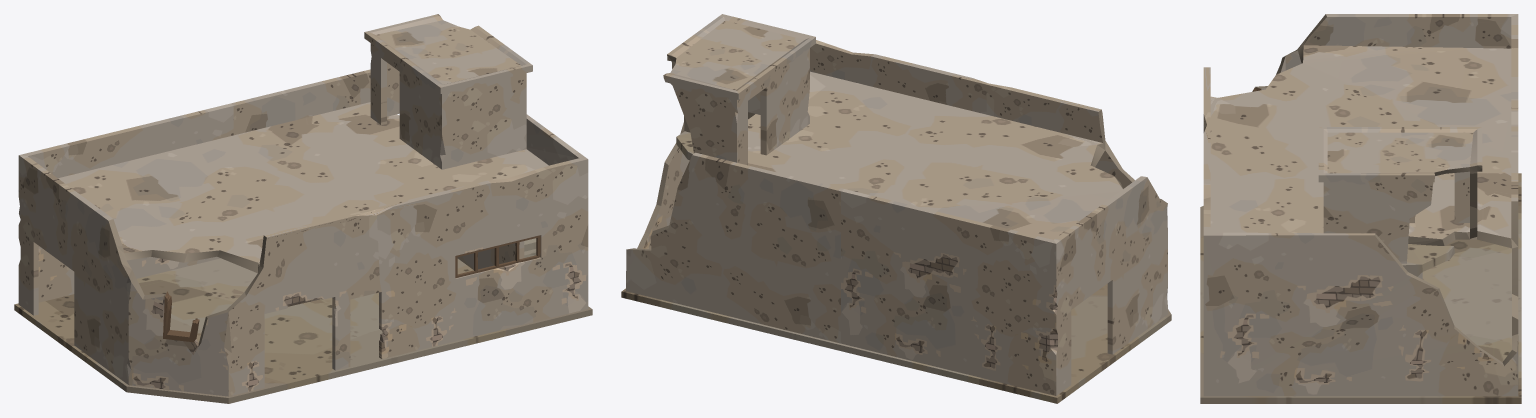
File: SM_Bld_Shop_07_Destroyed.fbx
The picture shows the model from 3 angles, left to right: view 1: azimuth 30°, elevation 25°; view 2: azimuth 150°, elevation 25°; view 3: azimuth 270°, elevation 25°; orthographic projection. The views are drawn at different scales.
Parts seen in each view (by area): view 1: SM_Bld_Shop_07_Destroyed; view 2: SM_Bld_Shop_07_Destroyed; view 3: SM_Bld_Shop_07_Destroyed.
Part boxes in pixels (x1=…): SM_Bld_Shop_07_Destroyed: x1=14, y1=14, x2=592, y2=403; SM_Bld_Shop_07_Destroyed: x1=621, y1=14, x2=1171, y2=403; SM_Bld_Shop_07_Destroyed: x1=1200, y1=14, x2=1521, y2=403.
Size of the model in its own units: 1520 by 714 by 919.
